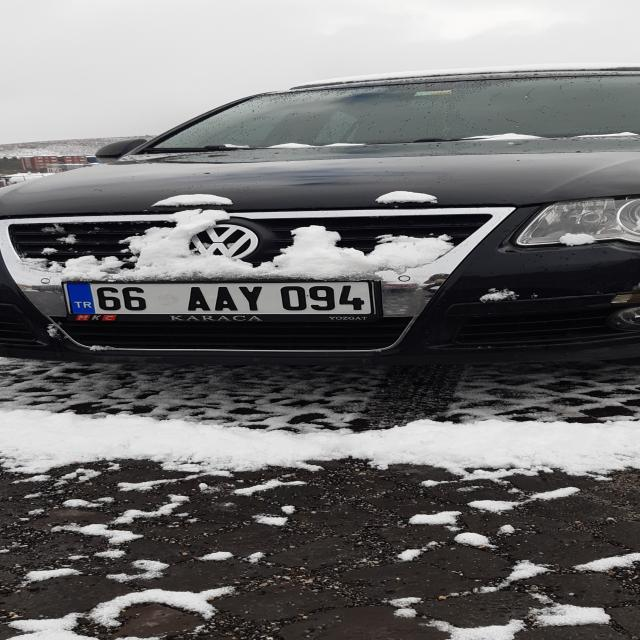plate: (62, 281, 376, 315)
